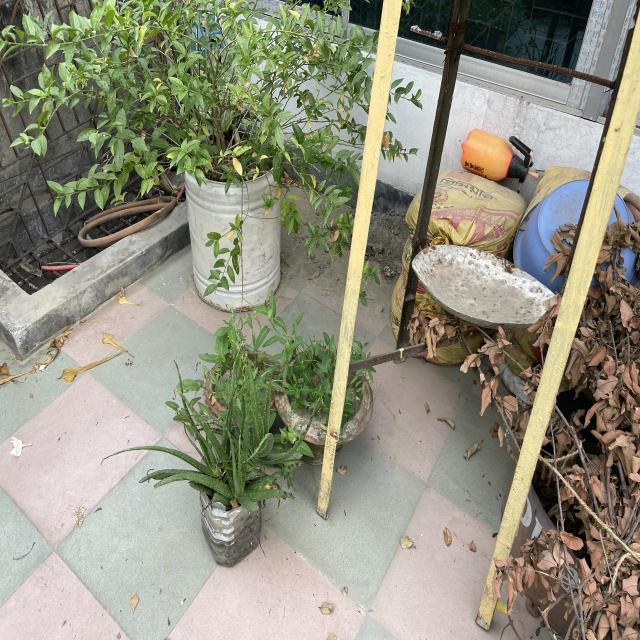Breeding Place: (189, 100, 281, 310), (407, 240, 560, 327), (283, 344, 370, 435), (204, 442, 263, 560), (200, 344, 279, 423)
